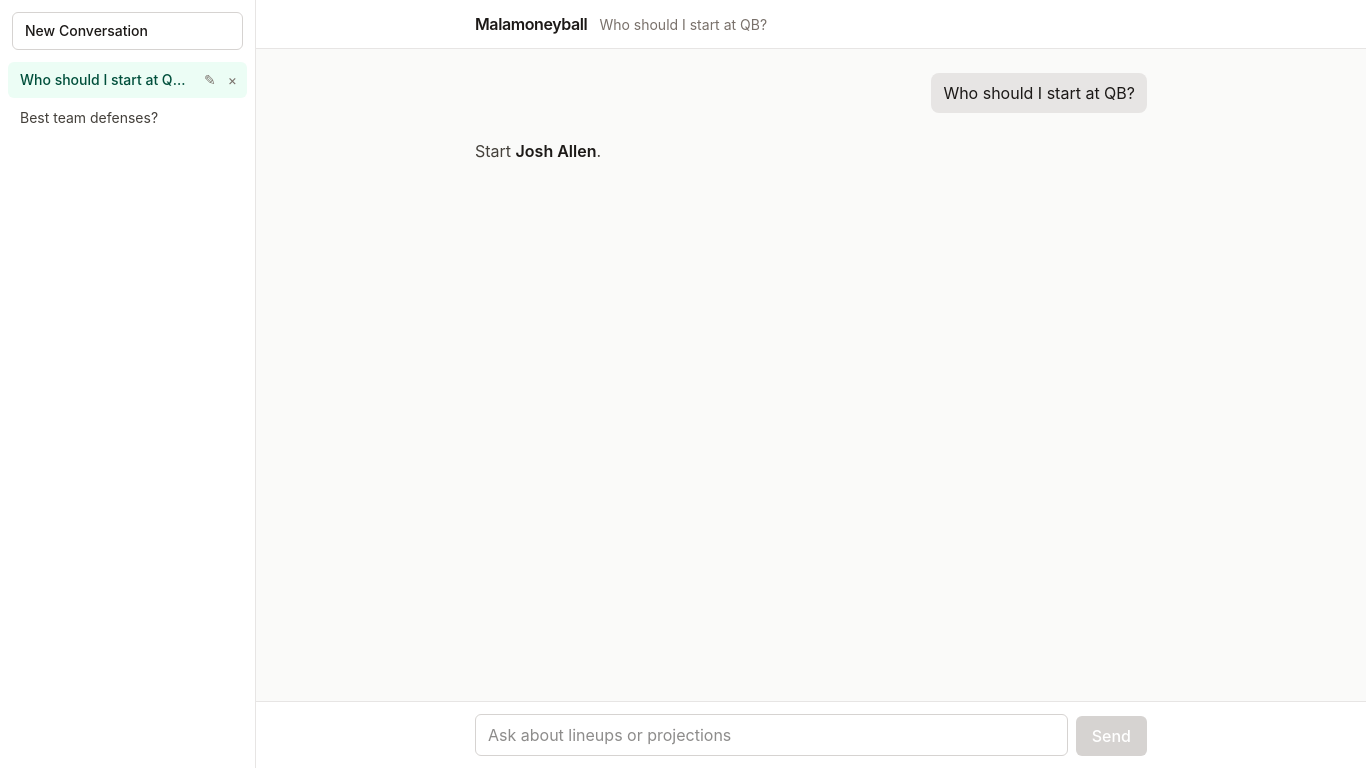
it: opens a conversation from the sidebar
This screenshot has width=1366, height=768.
expect the text "Josh Allen" is shown: met, box [516,141,596,161]
Click the button "Best team defenses?": [103, 118] box [8,100,198,136]
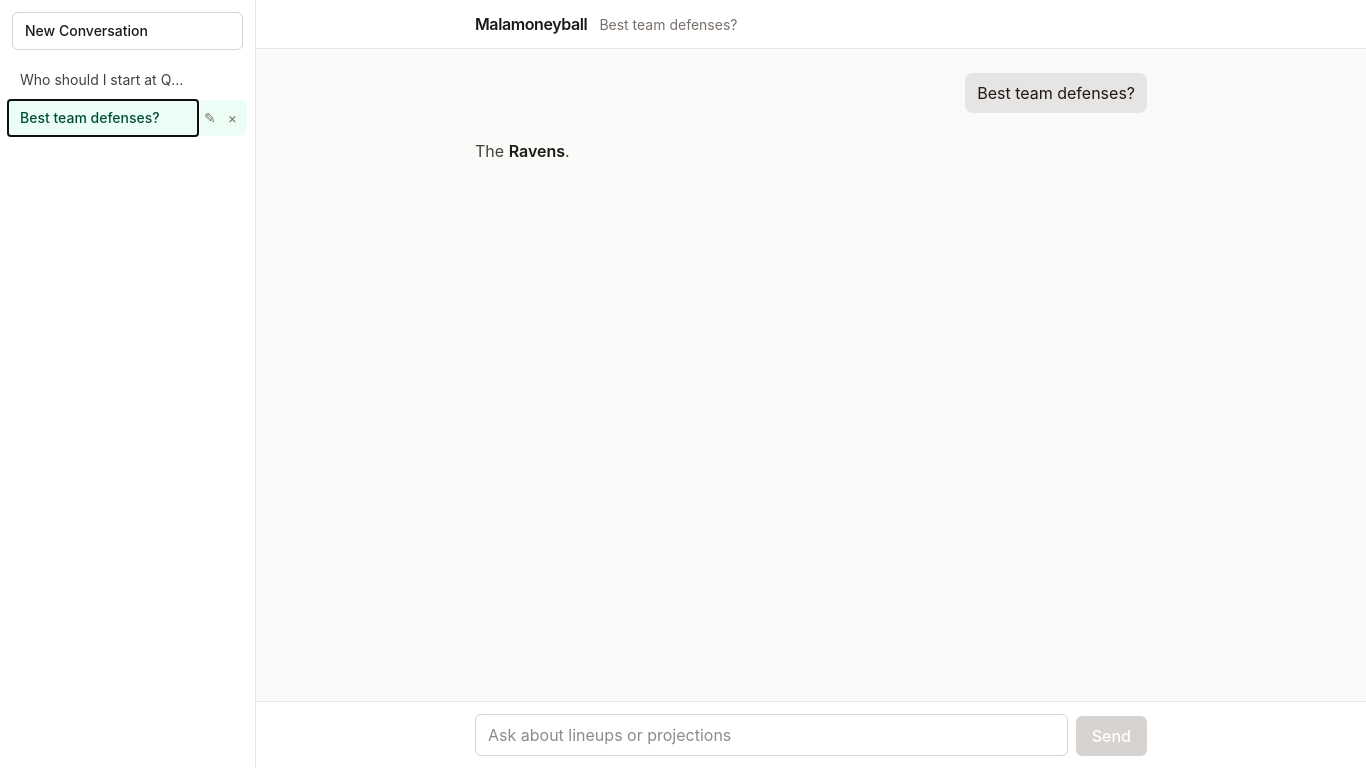
expect the 3rd text "Best team defenses?" is shown: met, box [20,109,160,126]
expect the text "Josh Allen" is gone: met
